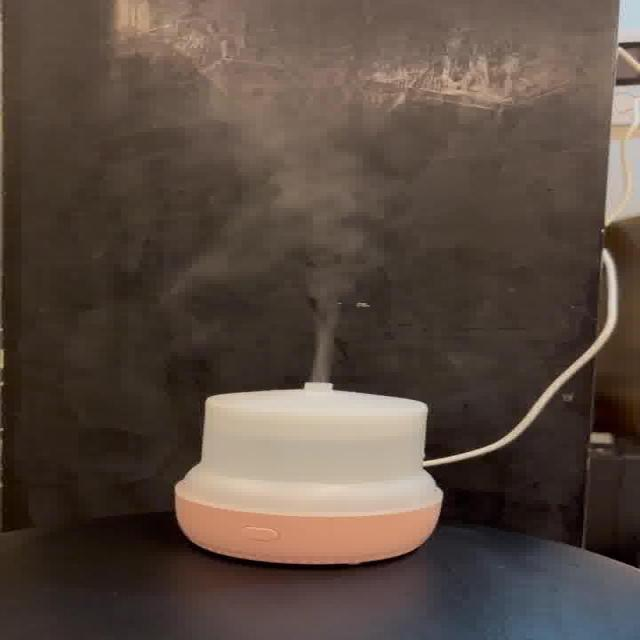fire: (237, 139, 416, 381)
